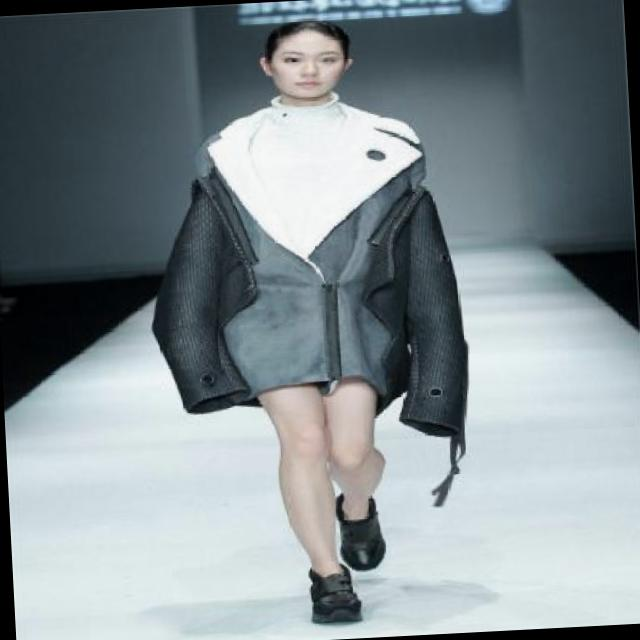Person: (158, 6, 445, 640)
